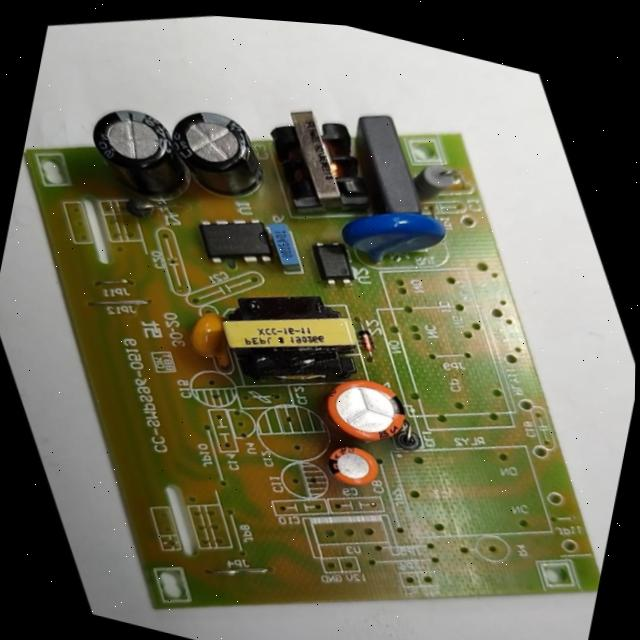Cap1: (306, 356, 428, 467)
Cap2: (314, 432, 393, 502)
Cap3: (150, 87, 288, 220)
Cap4: (67, 84, 208, 221)
MOSFET: (186, 196, 288, 285)
Mov: (327, 184, 469, 295)
Resistor: (404, 153, 475, 215)
Transformer: (200, 258, 388, 416), (246, 85, 398, 234)
